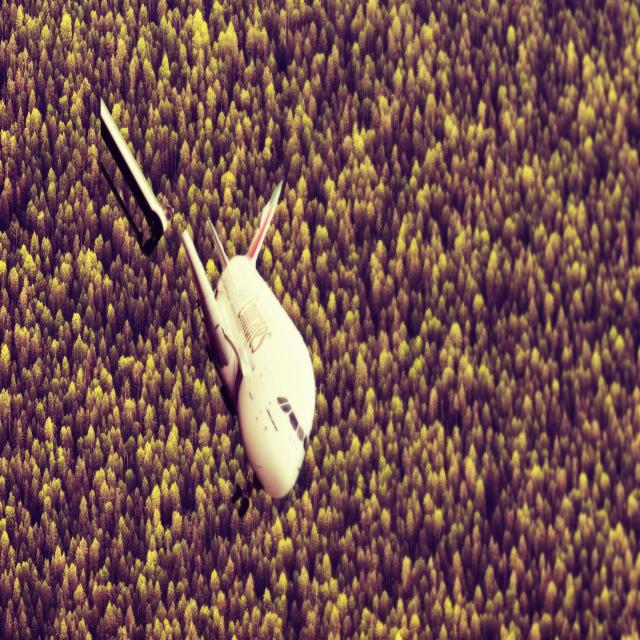airplane: (98, 96, 316, 500)
